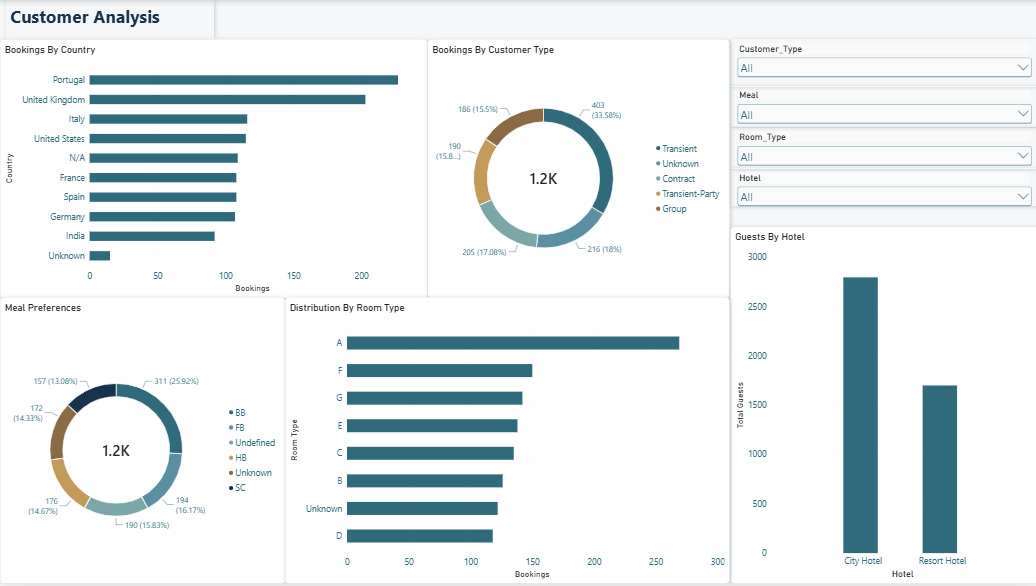

What the dashboard file says about the page in this screenshot:
{"tool":"powerbi","page":{"name":"Page 3","canvas":[1920,1080],"ordinal":2},"visuals":[{"type":"textbox","box":[11.3,0,292,53.9],"z":0},{"type":"clusteredBarChart","title":"Bookings By Country","fields":{"Category":["Hotel Bookings - Raw.Country"],"Y":["CountNonNull(Hotel Bookings - Raw.Booking_ID)"]},"box":[0,70.9,790.9,479.1],"z":1000},{"type":"donutChart","title":"Bookings By Customer Type","fields":{"Category":["Hotel Bookings - Raw.Customer_Type"],"Y":["CountNonNull(Hotel Bookings - Raw.Booking_ID)"]},"box":[790.9,70.9,558.4,479.1],"z":2000},{"type":"clusteredColumnChart","title":"Guests By Hotel","fields":{"Category":["Hotel Bookings - Raw.Hotel"],"Y":["Hotel Bookings - Raw.Total Guests"]},"box":[1349.3,419.5,569.8,660.5],"z":3000},{"type":"donutChart","title":"Meal Preferences","fields":{"Category":["Hotel Bookings - Raw.Meal"],"Y":["CountNonNull(Hotel Bookings - Raw.Booking_ID)"]},"box":[0,549.9,527.2,530.1],"z":4000},{"type":"clusteredBarChart","title":"Distribution By Room Type","fields":{"Category":["Hotel Bookings - Raw.Room_Type"],"Y":["CountNonNull(Hotel Bookings - Raw.Booking_ID)"]},"box":[527.2,549.9,822.1,530.1],"z":5000},{"type":"slicer","fields":{"Values":["Hotel Bookings - Raw.Customer_Type"]},"box":[1349.3,70.9,569.8,87.9],"z":6000},{"type":"slicer","fields":{"Values":["Hotel Bookings - Raw.Meal"]},"box":[1349.3,158.7,569.8,76.5],"z":7000},{"type":"slicer","fields":{"Values":["Hotel Bookings - Raw.Room_Type"]},"box":[1349.3,235.3,569.8,76.5],"z":8000},{"type":"slicer","fields":{"Values":["Hotel Bookings - Raw.Hotel"]},"box":[1349.3,311.8,569.8,70.9],"z":9000}]}

Visuals, with their boxes in screenshot pixels (x1, y1, x2, y2), scaled from the page's 1920x1080 canvas onto the 1036x586 screenshot:
textbox: region(6, 0, 164, 29)
"Bookings By Country" clusteredBarChart: region(0, 38, 427, 298)
"Bookings By Customer Type" donutChart: region(427, 38, 728, 298)
"Guests By Hotel" clusteredColumnChart: region(728, 228, 1035, 585)
"Meal Preferences" donutChart: region(0, 298, 284, 585)
"Distribution By Room Type" clusteredBarChart: region(284, 298, 728, 585)
slicer - Hotel Bookings - Raw.Customer_Type: region(728, 38, 1035, 86)
slicer - Hotel Bookings - Raw.Meal: region(728, 86, 1035, 128)
slicer - Hotel Bookings - Raw.Room_Type: region(728, 128, 1035, 169)
slicer - Hotel Bookings - Raw.Hotel: region(728, 169, 1035, 208)
